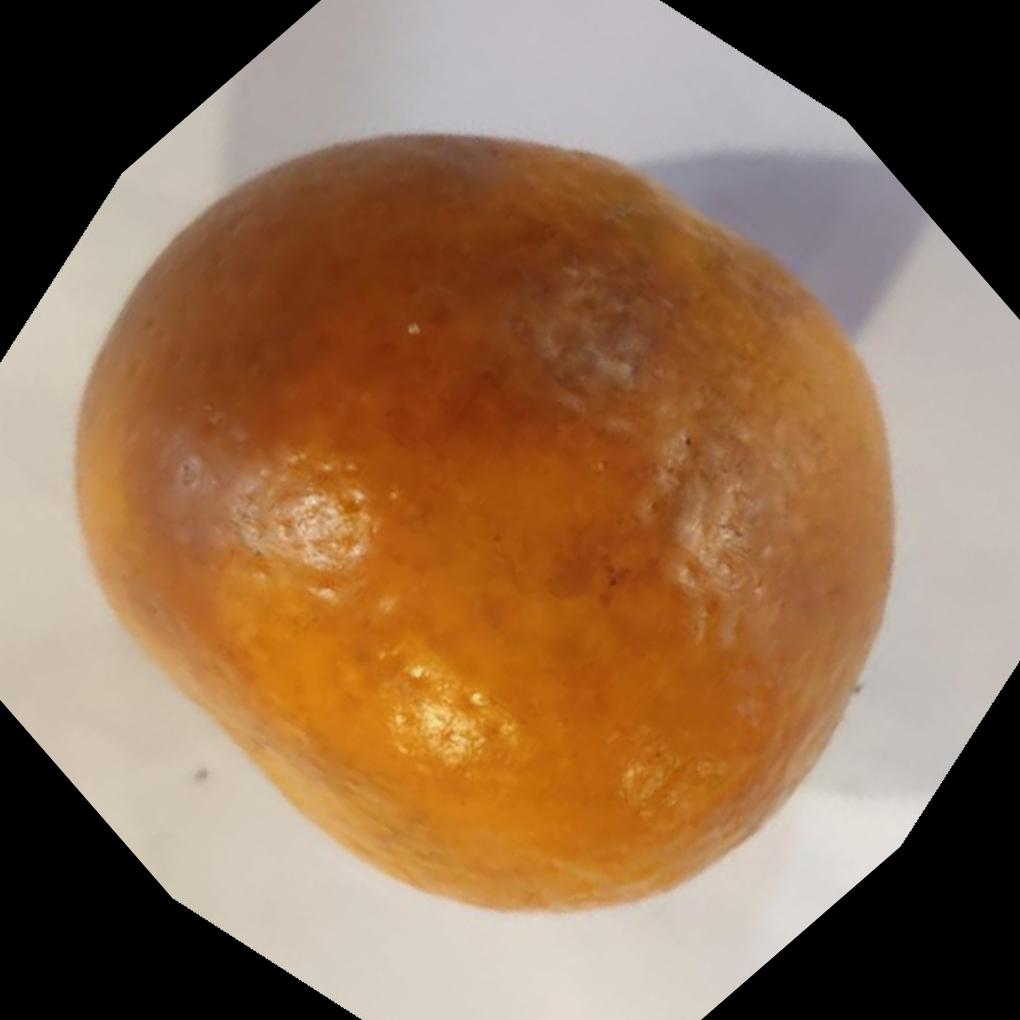FreshOrange: (68, 128, 896, 913)
